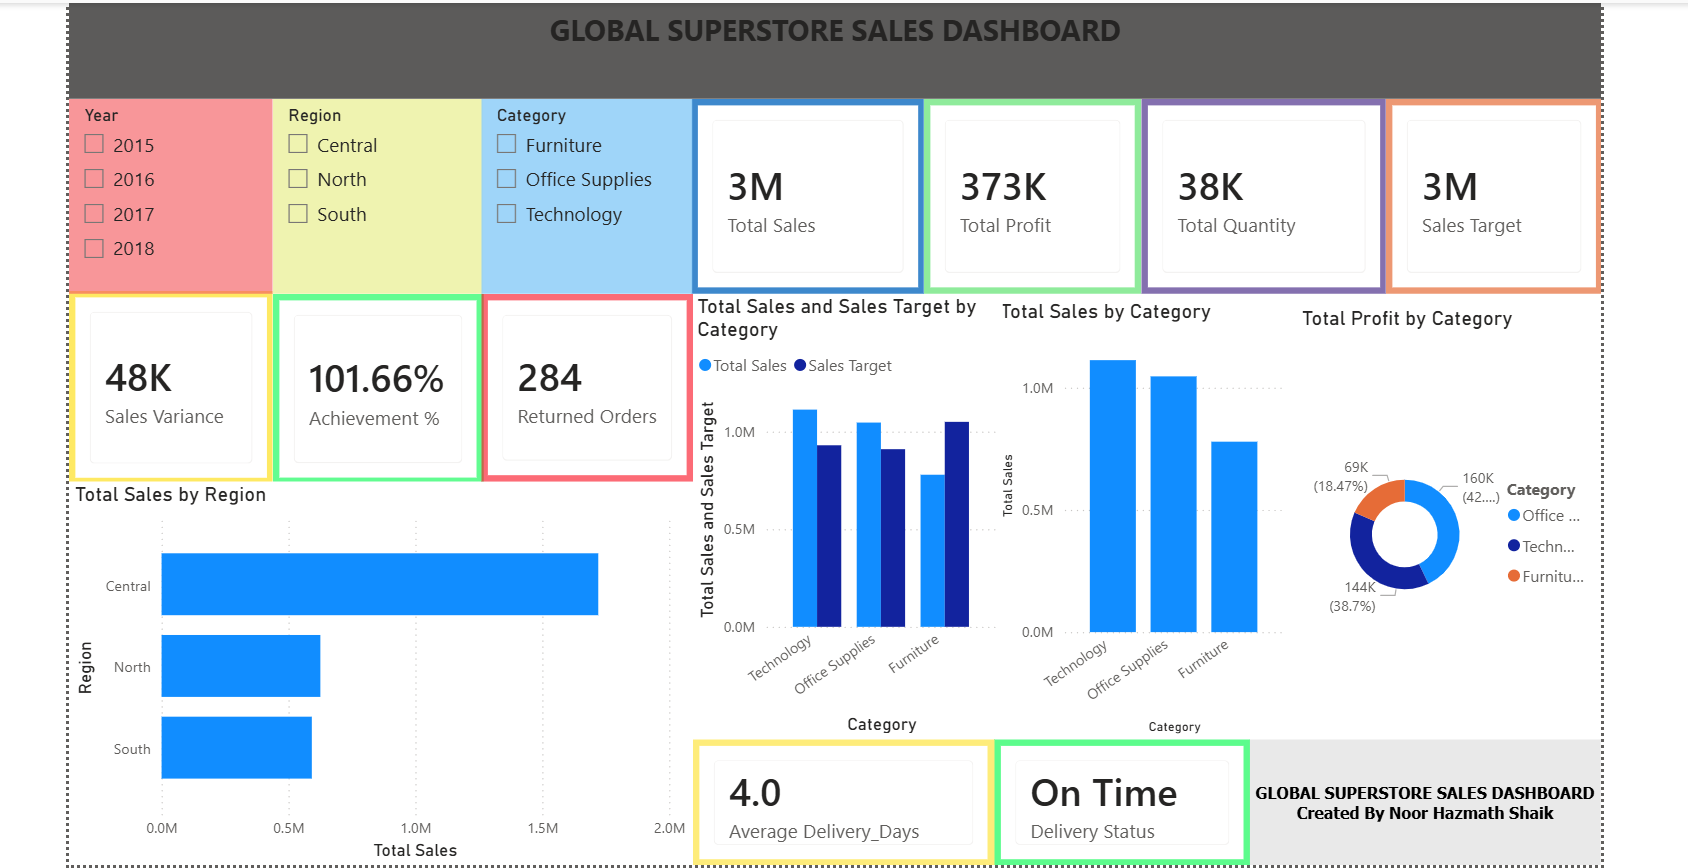

What the dashboard file says about the page in this screenshot:
{"tool":"powerbi","page":{"name":"Page 1","canvas":[1280,720],"ordinal":0},"visuals":[{"type":"cardVisual","fields":{"Data":["Orders.Total Sales"]},"box":[520,80,194.3,162.9],"z":0},{"type":"cardVisual","fields":{"Data":["Orders.Total Profit"]},"box":[714.3,80,181.4,162.9],"z":1000},{"type":"cardVisual","fields":{"Data":["Orders.Total Quantity"]},"box":[895.7,80,204.3,162.9],"z":2000},{"type":"cardVisual","fields":{"Data":["Orders.Achievement Color"]},"box":[170,242.9,175.7,158.6],"z":3000},{"type":"cardVisual","fields":{"Data":["Orders.Sales Target"]},"box":[1100,80,180,162.9],"z":4000},{"type":"cardVisual","fields":{"Data":["Orders.Sales Variance"]},"box":[0,240,170,161.4],"z":5000},{"type":"clusteredColumnChart","fields":{"Category":["Target.Category"],"Y":["Orders.Total Sales"]},"box":[773.3,246.7,246.7,368.3],"z":6000},{"type":"clusteredColumnChart","fields":{"Category":["Target.Category"],"Y":["Orders.Total Sales","Orders.Sales Target"]},"box":[520,243.3,260,371.7],"z":7000},{"type":"donutChart","fields":{"Category":["Target.Category"],"Y":["Orders.Total Profit"]},"box":[1025,253.3,255,361.7],"z":8000},{"type":"barChart","fields":{"Category":["People.Region"],"Y":["Orders.Total Sales"]},"box":[0,400,520,320],"z":9000},{"type":"slicer","fields":{"Values":["Orders.Year"]},"box":[0,80,170,162.9],"z":10000},{"type":"slicer","fields":{"Values":["Orders.Region"]},"box":[170,80,175,162.5],"z":11000},{"type":"slicer","fields":{"Values":["Orders.Category"]},"box":[344.3,80,175.7,162.9],"z":12000},{"type":"textbox","box":[0,0,1280,80],"z":13000},{"type":"cardVisual","fields":{"Data":["Orders.Returned Orders"]},"box":[345,243.3,176.7,156.7],"z":14000},{"type":"shape","box":[986.7,615,293.3,105],"z":15000},{"type":"cardVisual","fields":{"Data":["Orders.Average Delivery"]},"box":[521.7,615,251.7,105],"z":16000},{"type":"cardVisual","fields":{"Data":["Orders.Delivery Status"]},"box":[773.3,615,213.3,105],"z":17000}]}

Visuals, with their boxes in screenshot pixels (x1, y1, x2, y2):
cardVisual - Orders.Total Sales: <bbox>696, 95, 926, 288</bbox>
cardVisual - Orders.Total Profit: <bbox>926, 95, 1142, 288</bbox>
cardVisual - Orders.Total Quantity: <bbox>1142, 95, 1384, 288</bbox>
cardVisual - Orders.Achievement Color: <bbox>281, 288, 489, 476</bbox>
cardVisual - Orders.Sales Target: <bbox>1384, 95, 1597, 288</bbox>
cardVisual - Orders.Sales Variance: <bbox>79, 285, 281, 476</bbox>
clusteredColumnChart - Target.Category x Orders.Total Sales: <bbox>996, 293, 1289, 729</bbox>
clusteredColumnChart - Target.Category x Orders.Total Sales: <bbox>696, 289, 1004, 729</bbox>
donutChart - Target.Category x Orders.Total Profit: <bbox>1295, 300, 1597, 729</bbox>
barChart - People.Region x Orders.Total Sales: <bbox>79, 474, 696, 854</bbox>
slicer - Orders.Year: <bbox>79, 95, 281, 288</bbox>
slicer - Orders.Region: <bbox>281, 95, 488, 288</bbox>
slicer - Orders.Category: <bbox>488, 95, 696, 288</bbox>
textbox: <bbox>79, 0, 1597, 95</bbox>
cardVisual - Orders.Returned Orders: <bbox>488, 289, 698, 474</bbox>
shape: <bbox>1249, 729, 1597, 854</bbox>
cardVisual - Orders.Average Delivery: <bbox>698, 729, 996, 854</bbox>
cardVisual - Orders.Delivery Status: <bbox>996, 729, 1249, 854</bbox>
